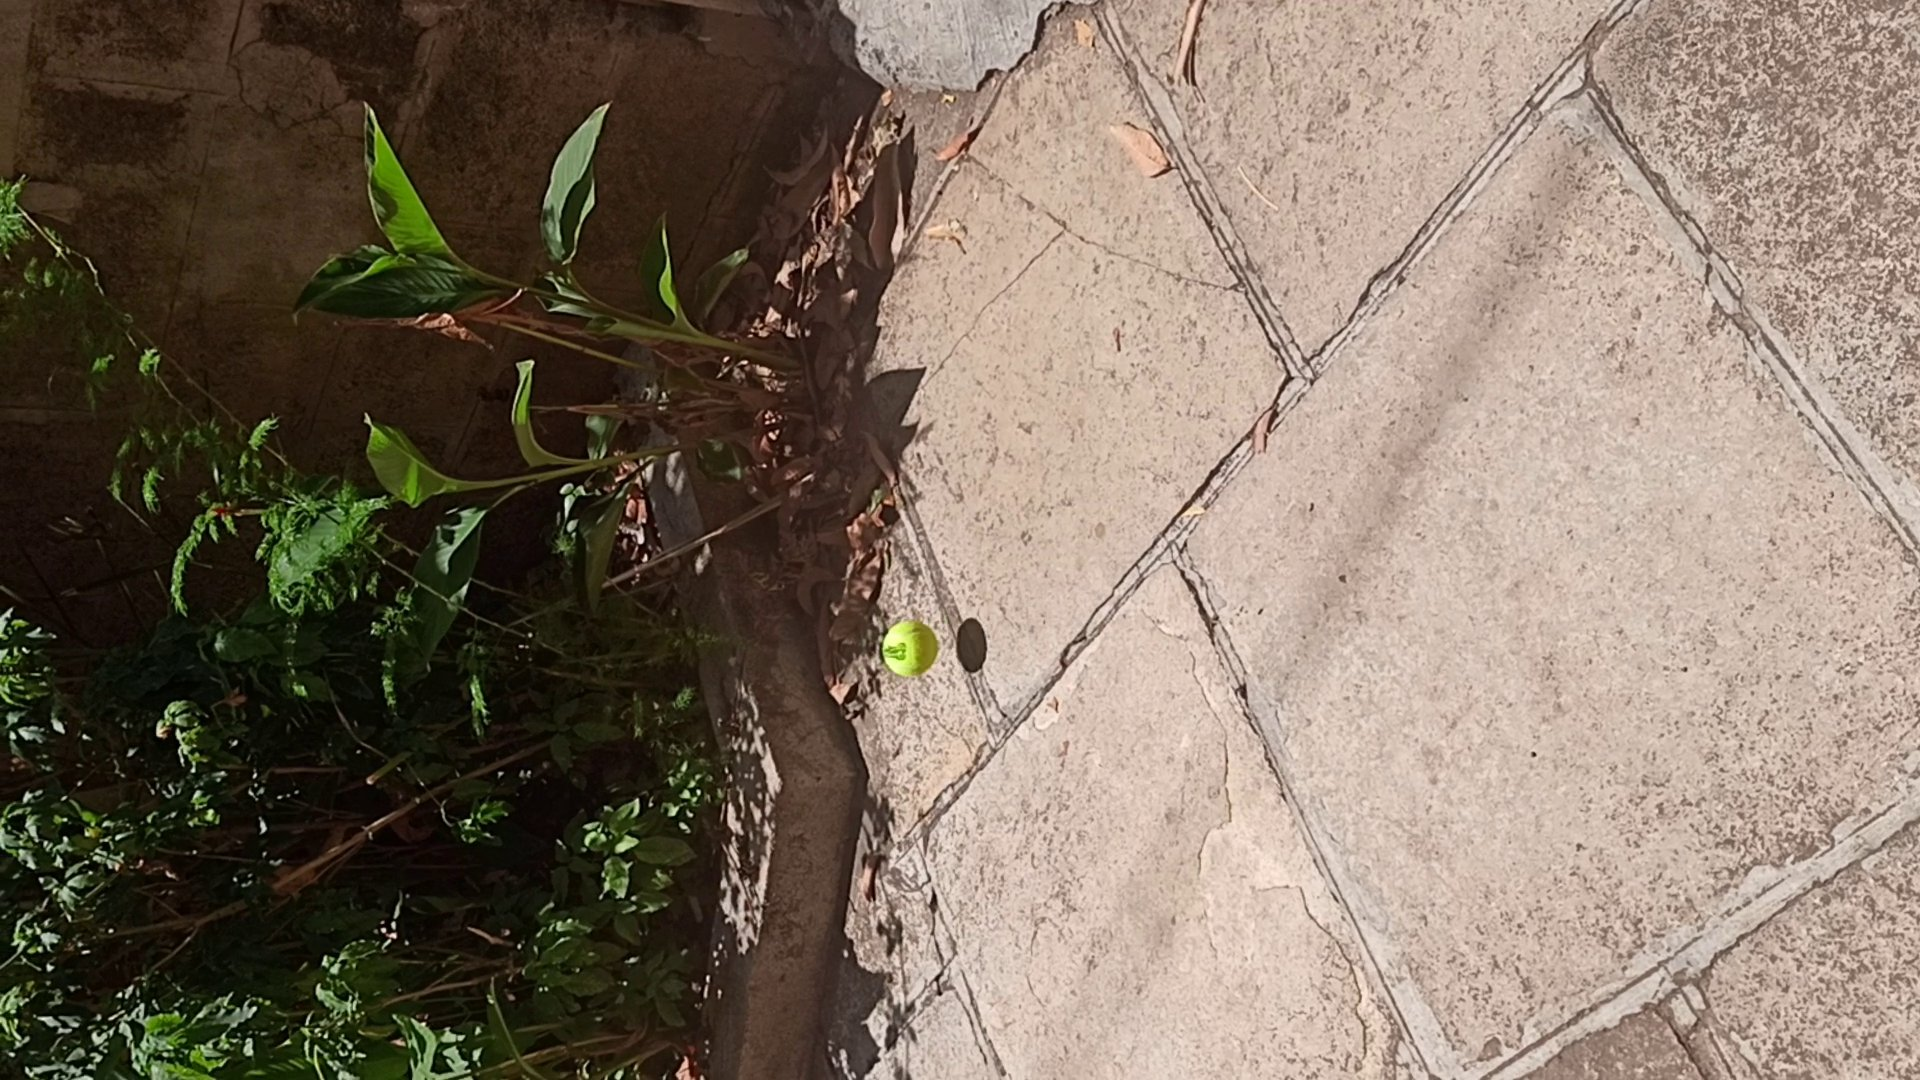Tennis-Ball: (882, 621, 938, 676)
